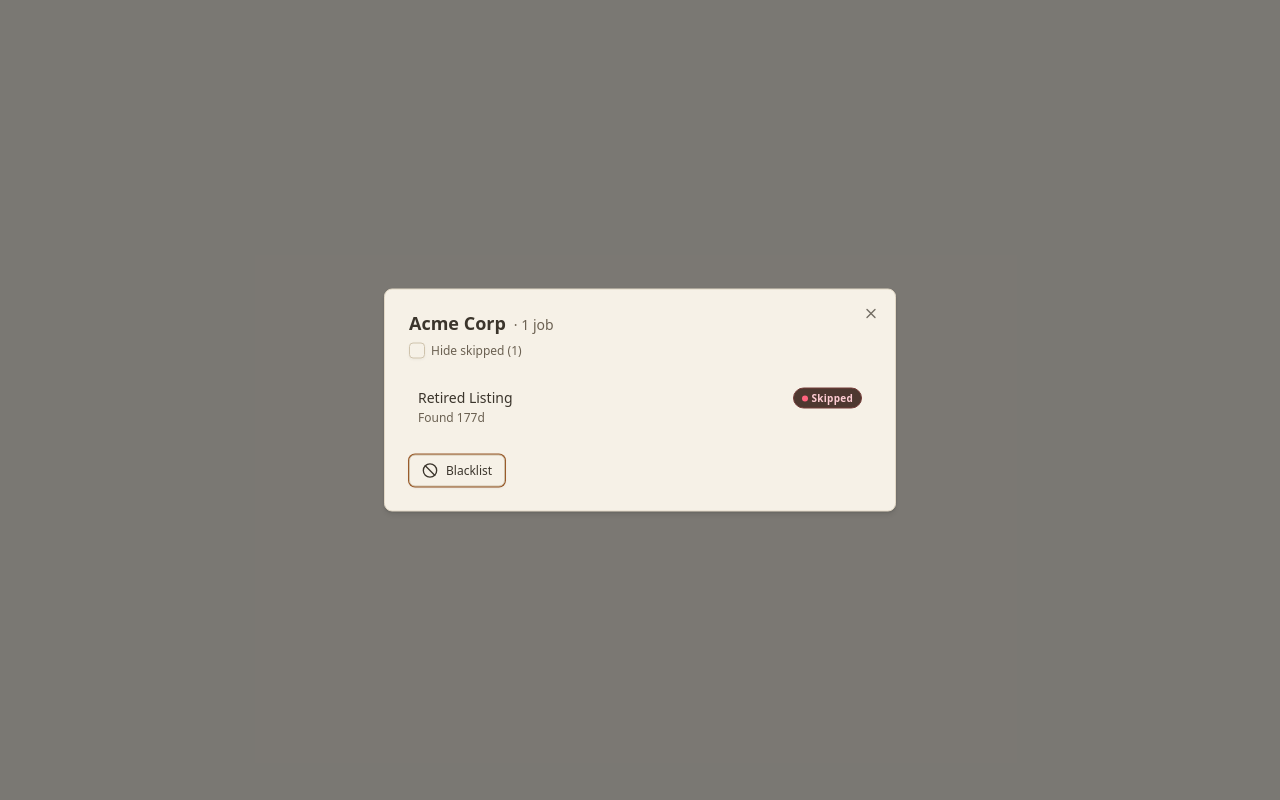
Test case: CompanyJobsDialog › says why the list is empty when every job here is skipped
Click the checkbox named "hide skipped": click(417, 350) [409,342,425,358]
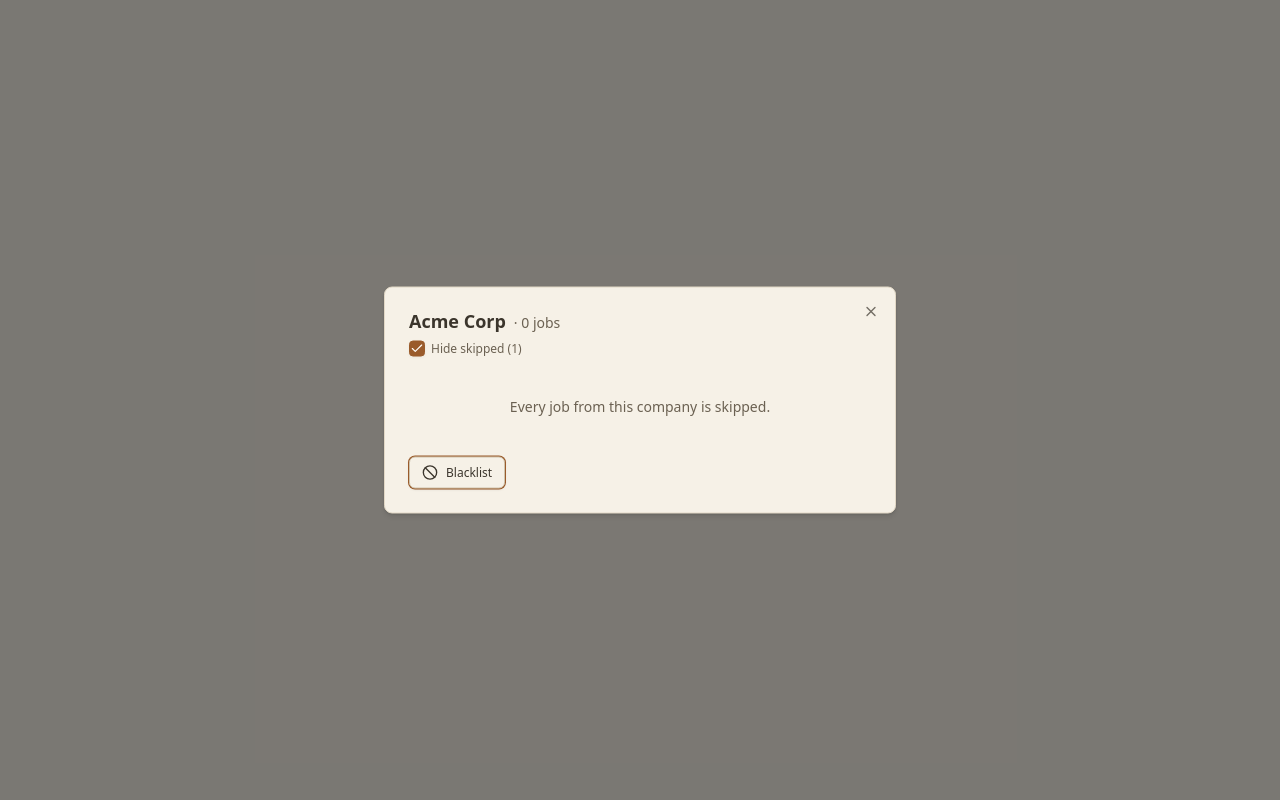
Now the text "Every job from this company is skipped." is shown, box [510,396,770,416]
